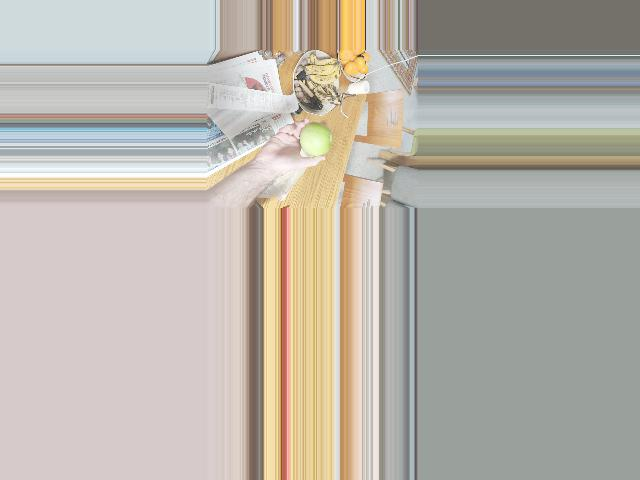apple: (296, 124, 337, 159)
